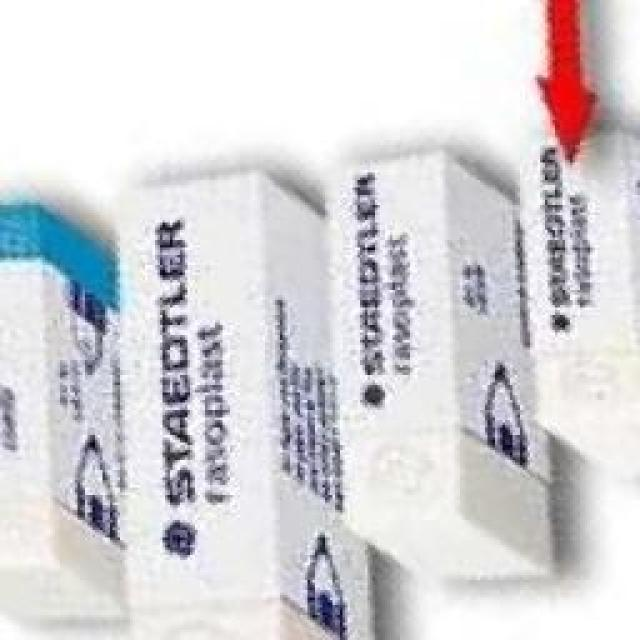Silgi: (328, 147, 559, 588)
